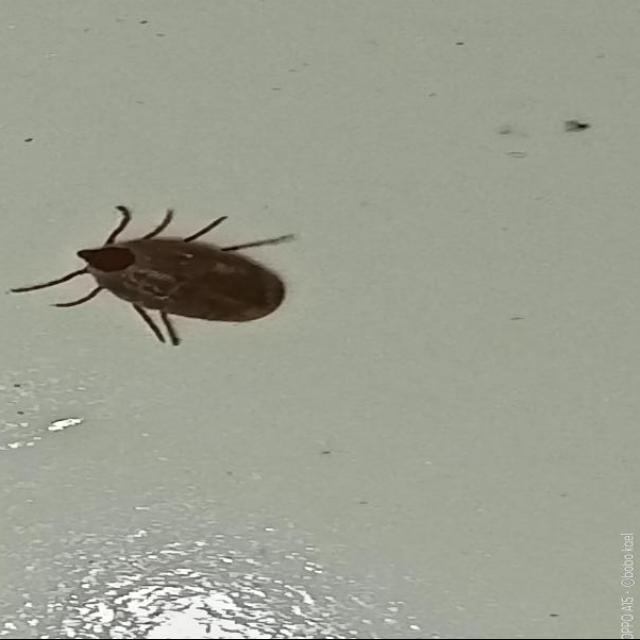Rhipicephalus Sanguineus-F-Fed: (8, 207, 297, 347)
